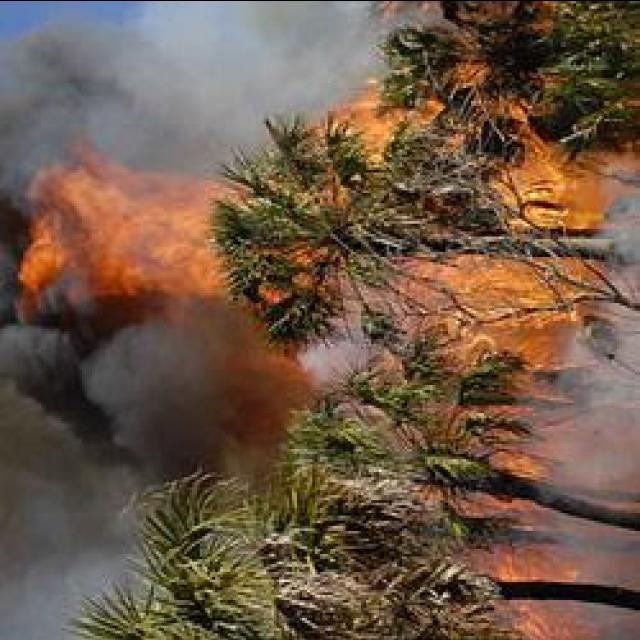fire: (110, 180, 206, 294)
smoke: (8, 324, 222, 464), (2, 26, 151, 148), (0, 180, 92, 352), (170, 0, 368, 77), (1, 466, 66, 638), (563, 351, 640, 494), (607, 190, 640, 256)
